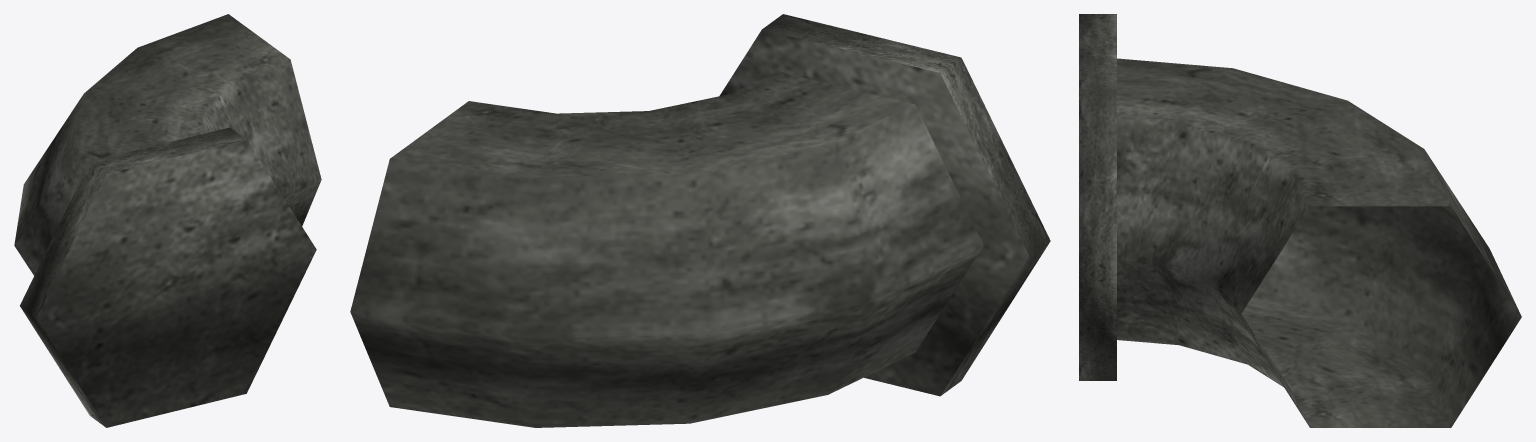
Rendered from large_metal_2_elbow_hz.fbx.
3 views of the same model, side by side, from view 1: azimuth 30°, elevation 25°; view 2: azimuth 150°, elevation 25°; view 3: azimuth 270°, elevation 25° (orthographic). The views are drawn at different scales.
Visible parts, largest first — view 1: polySurface530; view 2: polySurface530; view 3: polySurface530.
Boxes of the visible parts, x1,y1,x2,y2 form: polySurface530: (14,14,321,427); polySurface530: (350,14,1050,427); polySurface530: (1079,14,1521,427).
Size of the model in its own units: 1.65 by 1.13 by 1.57.
